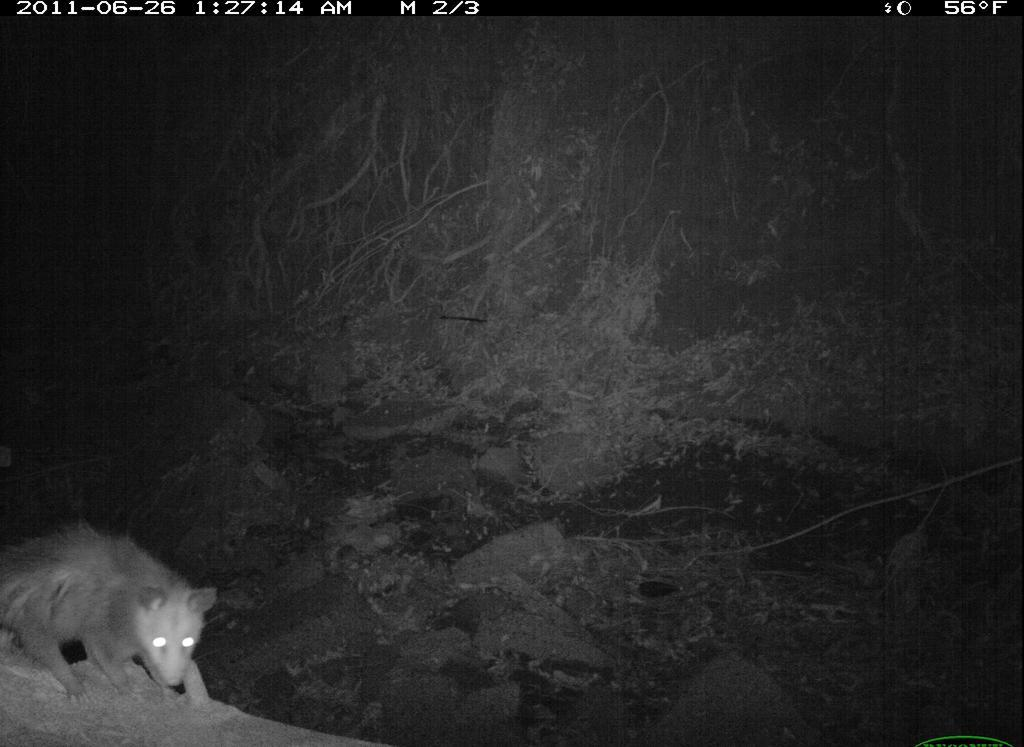opossum: (4, 520, 228, 724)
